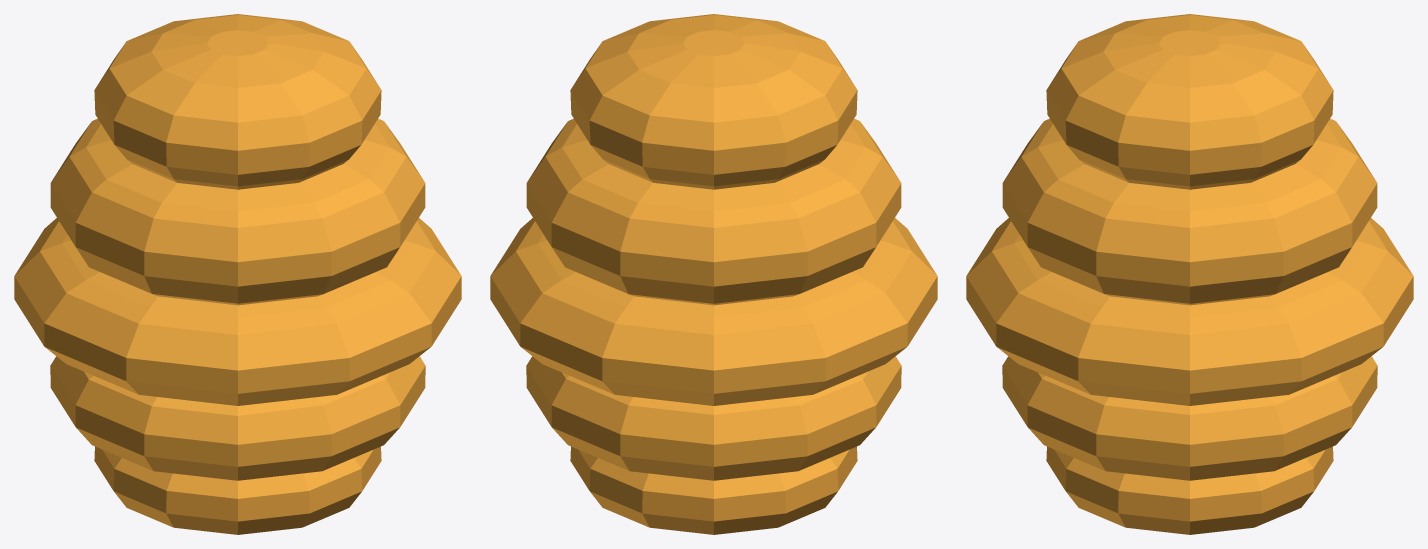
The model's file is bee_honeycomb.glb.
3 renders of one model, left to right at view 1: azimuth 30°, elevation 25°; view 2: azimuth 150°, elevation 25°; view 3: azimuth 270°, elevation 25°, orthographic.
Parts seen in each view (by area): view 1: bee_honeycomb; view 2: bee_honeycomb; view 3: bee_honeycomb.
Part boxes in pixels (<box>): bee_honeycomb: <box>14,14,461,534</box>; bee_honeycomb: <box>490,14,937,534</box>; bee_honeycomb: <box>966,14,1413,534</box>.
Bounding box in the file's own units: 2.02 × 2.28 × 2.02.
1 material, 1 textured.
